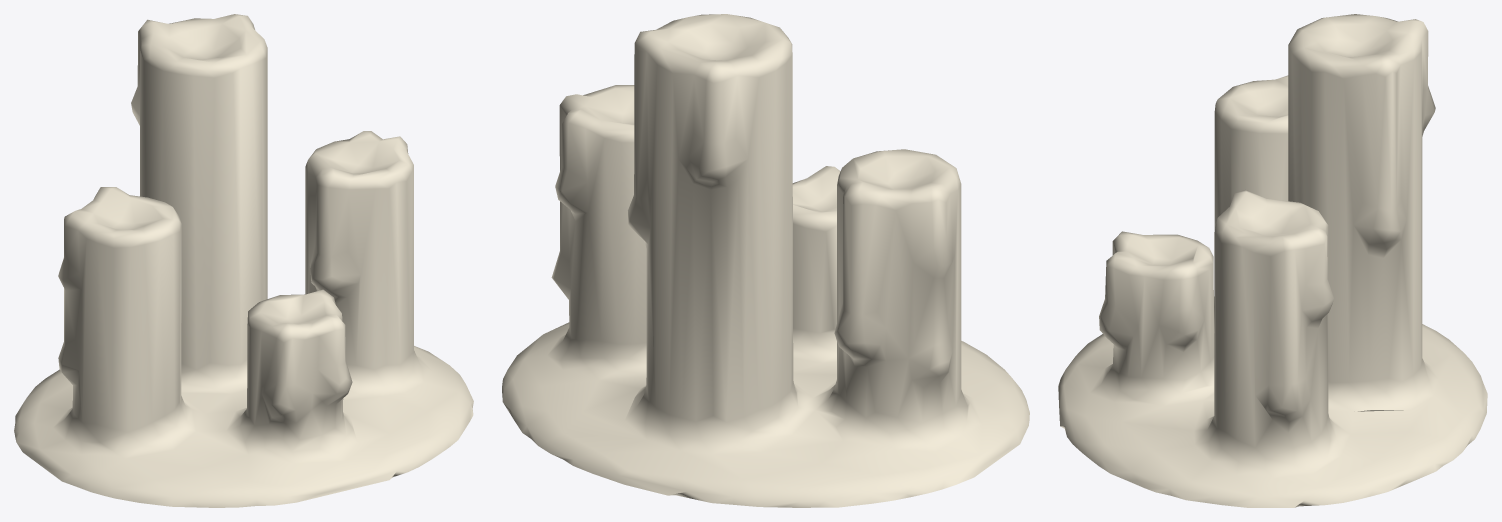
The model's file is candles.glb.
3 renders of one model, left to right at view 1: azimuth 30°, elevation 25°; view 2: azimuth 150°, elevation 25°; view 3: azimuth 270°, elevation 25°, orthographic. The views are drawn at different scales.
Visible parts, largest first — view 1: Candles; view 2: Candles; view 3: Candles.
Boxes of the visible parts, x1,y1,x2,y2 form: Candles: (14, 14, 473, 507); Candles: (502, 14, 1029, 507); Candles: (1058, 14, 1487, 507).
Bounding box in the file's own units: 1.48 × 1.22 × 1.28.
